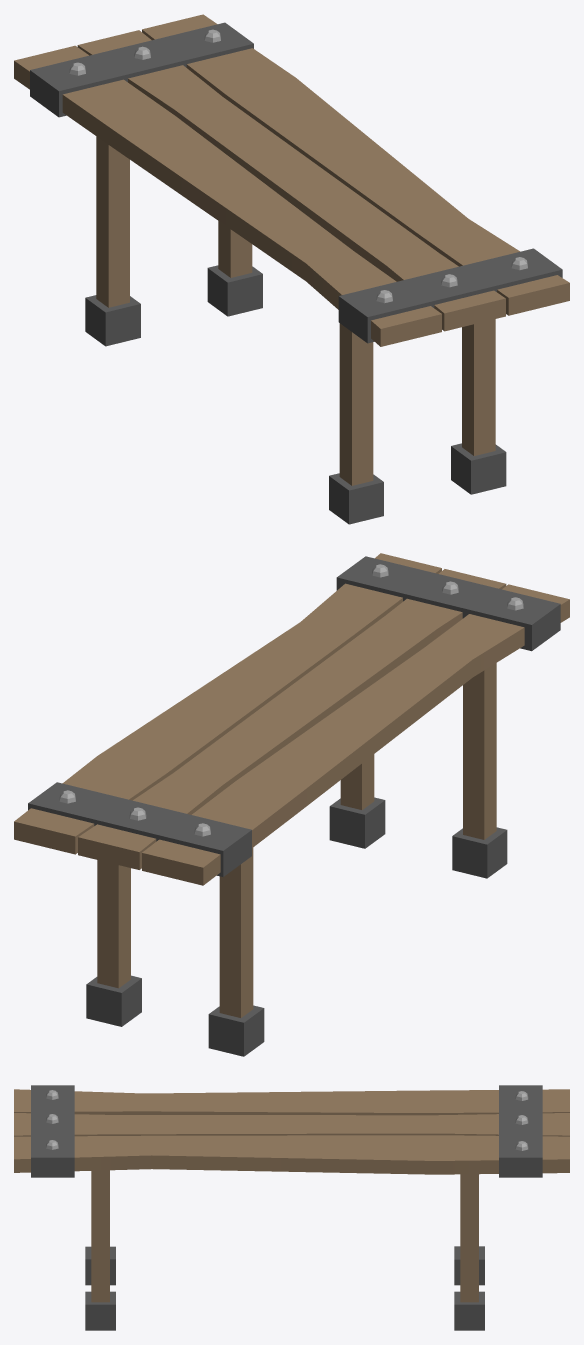
The model's file is env_TableLong.fbx.
The picture shows the model from 3 angles, top to bottom: view 1: azimuth 30°, elevation 25°; view 2: azimuth 150°, elevation 25°; view 3: azimuth 270°, elevation 25°; orthographic projection. The views are drawn at different scales.
Visible parts, largest first — view 1: env_TableLong; view 2: env_TableLong; view 3: env_TableLong.
Part boxes in pixels (x1,y1,x2,y2): env_TableLong: (14, 14, 569, 524); env_TableLong: (14, 553, 569, 1056); env_TableLong: (14, 1085, 569, 1330).
Bounding box in the file's own units: 78.65 × 94.08 × 255.
